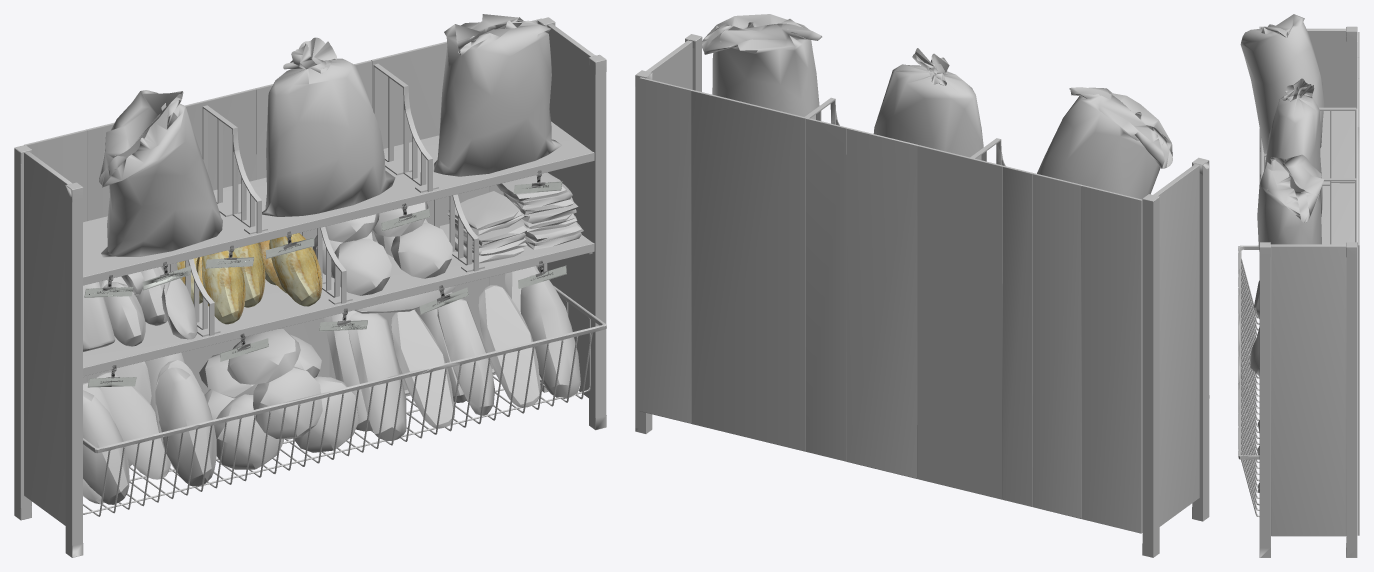
Rendered from panificio.fbx.
3 views of the same model, side by side, from view 1: azimuth 30°, elevation 25°; view 2: azimuth 150°, elevation 25°; view 3: azimuth 270°, elevation 25° (orthographic). The views are drawn at different scales.
Parts seen in each view (by area): view 1: AM216_13_shelves_01, AM216_13_bag_02_1, AM216_13_breadstuff_10_09_1, AM216_13_breadstuff_08_09_1, AM216_13_breadstuff_09_10_1, AM216_13_breadstuff_06_07_1, AM216_13_breadstuff_07_14_1, AM216_13_breadstuff_05_09_1, AM216_13_breadstuff_03_03_1, AM216_13_plate_11_1, AM216_13_breadstuff_02_04_1, AM216_13_breadstuff_00; view 2: AM216_13_shelves_01, AM216_13_bag_02_1; view 3: AM216_13_shelves_01, AM216_13_bag_02_1, AM216_13_breadstuff_09_10_1.
Part boxes in pixels (x1,y1,x2,y2): AM216_13_shelves_01: (14,17,606,557); AM216_13_bag_02_1: (99,14,561,257); AM216_13_breadstuff_10_09_1: (354,266,580,428); AM216_13_breadstuff_08_09_1: (83,352,216,504); AM216_13_breadstuff_09_10_1: (199,329,358,469); AM216_13_breadstuff_06_07_1: (313,202,452,295); AM216_13_breadstuff_07_14_1: (447,172,583,263); AM216_13_breadstuff_05_09_1: (177,233,322,324); AM216_13_breadstuff_03_03_1: (324,310,406,441); AM216_13_plate_11_1: (84,170,566,387); AM216_13_breadstuff_02_04_1: (99,267,197,346); AM216_13_breadstuff_00: (83,281,115,351); AM216_13_shelves_01: (635,34,1209,557); AM216_13_bag_02_1: (702,14,1172,199); AM216_13_shelves_01: (1238,26,1359,557); AM216_13_bag_02_1: (1240,14,1324,251); AM216_13_breadstuff_09_10_1: (1250,333,1259,376).
Bounding box in the file's own units: 259 × 201 × 60.33.
